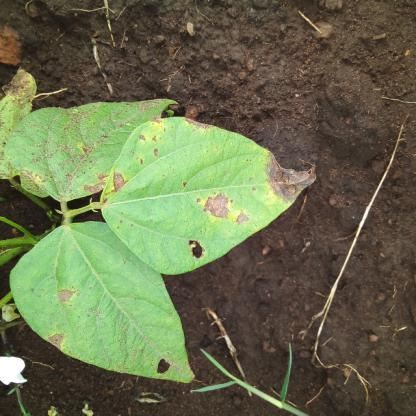Beans_Angular_LeafSpot: (98, 122, 317, 280), (13, 224, 190, 386), (0, 97, 176, 202)
